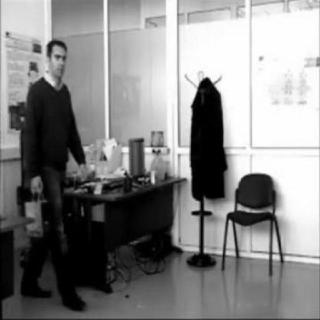other: (20, 192, 44, 240)
